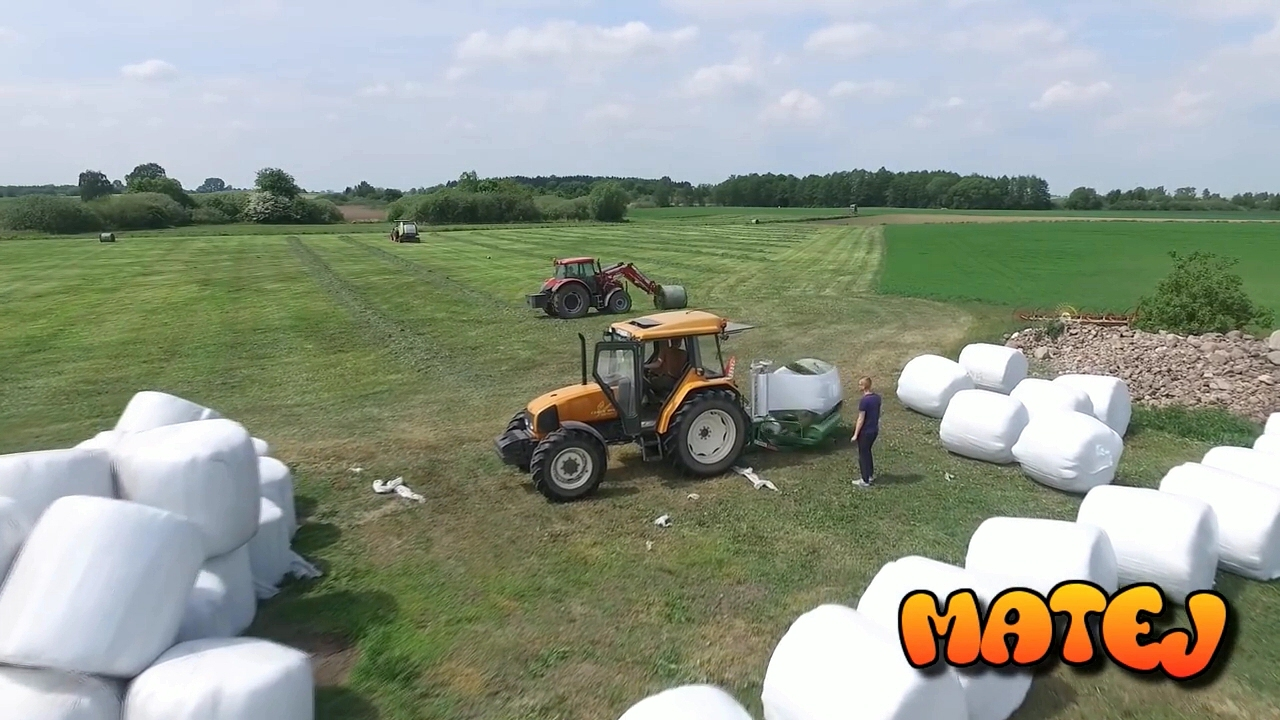insan: (846, 370, 885, 490)
traktor: (493, 303, 858, 503), (520, 240, 690, 322)
